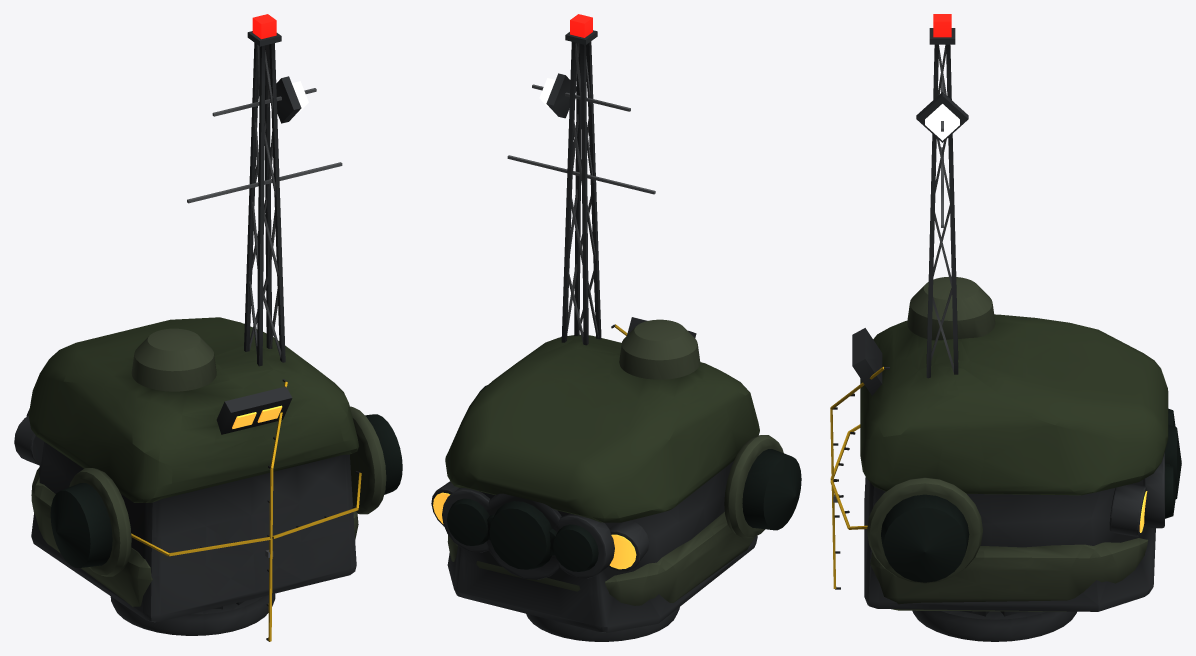
Rendered from bastion.head.glb.
3 renders of one model, left to right at view 1: azimuth 30°, elevation 25°; view 2: azimuth 150°, elevation 25°; view 3: azimuth 270°, elevation 25°, orthographic. The views are drawn at different scales.
Bounding box in the file's own units: 13.26 × 22.09 × 11.45.
